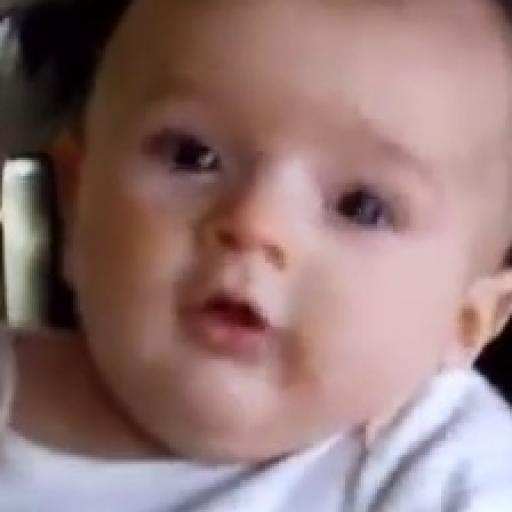Autism: (103, 1, 512, 460)
